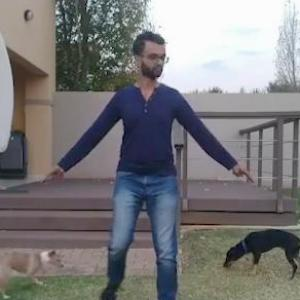land: (68, 49, 227, 299)
